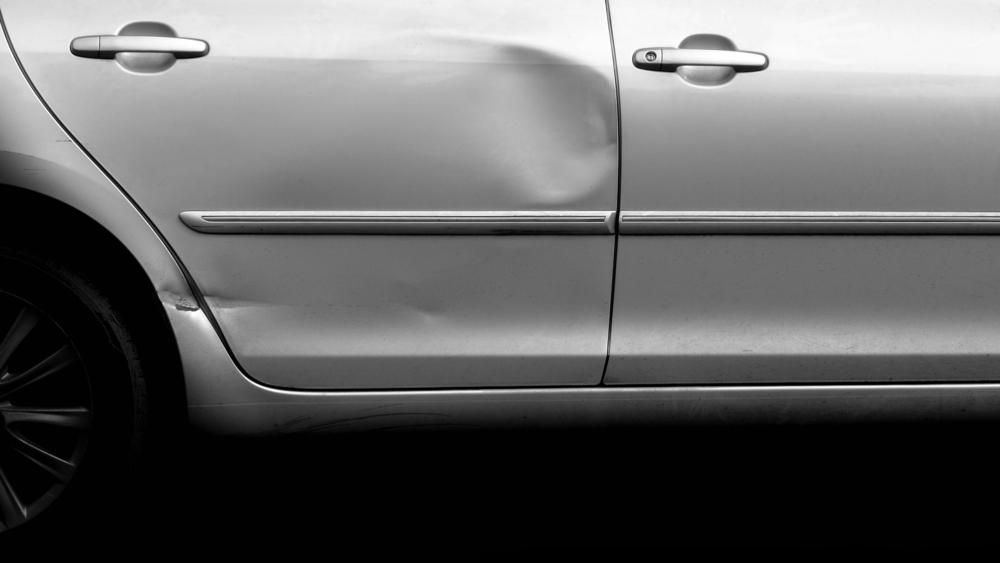dent: (464, 42, 616, 201), (202, 284, 241, 326), (156, 280, 196, 311)
